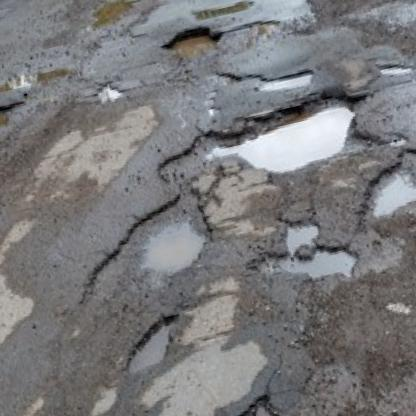pothole: (200, 80, 373, 187), (123, 185, 224, 280), (350, 145, 416, 226), (113, 309, 191, 375), (281, 235, 364, 288), (158, 19, 223, 66), (251, 67, 317, 101), (277, 211, 326, 254), (0, 98, 24, 149)
